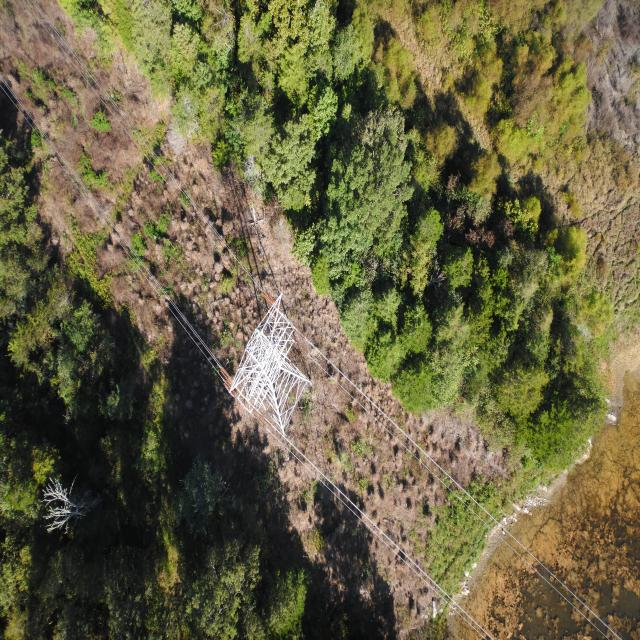Area of Interest: (179, 5, 607, 485)
